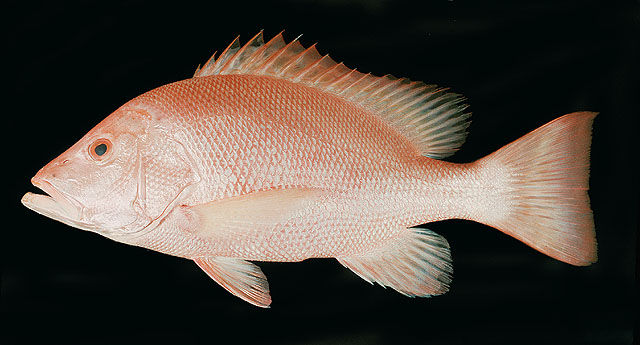fish: (20, 29, 599, 308)
